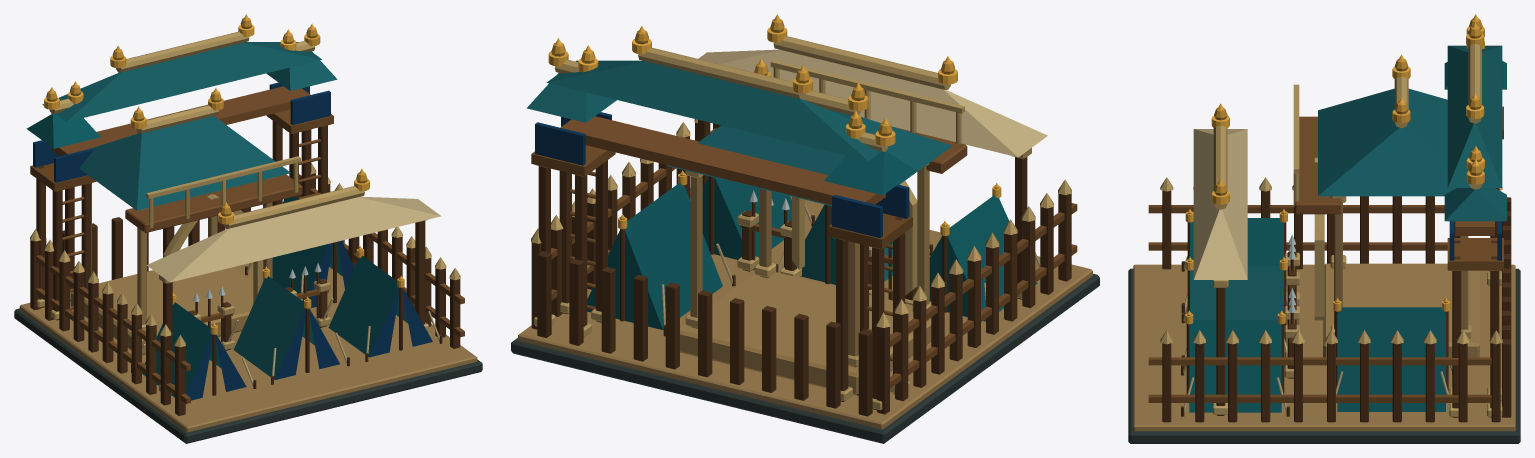
The picture shows the model from 3 angles, left to right: view 1: azimuth 30°, elevation 25°; view 2: azimuth 150°, elevation 25°; view 3: azimuth 270°, elevation 25°; orthographic projection. The views are drawn at different scales.
Parts seen in each view (by area): view 1: camp_level14_structure, camp_level14_metal; view 2: camp_level14_structure, camp_level14_metal; view 3: camp_level14_structure, camp_level14_metal.
Boxes of the visible parts, left/top/right/bottom form: camp_level14_structure: left=14, top=18, right=482, bottom=443; camp_level14_metal: left=44, top=14, right=404, bottom=334; camp_level14_structure: left=511, top=19, right=1099, bottom=443; camp_level14_metal: left=548, top=14, right=1001, bottom=235; camp_level14_structure: left=1128, top=18, right=1520, bottom=443; camp_level14_metal: left=1185, top=14, right=1484, bottom=324.
Bounding box in the file's own units: 5.6 × 4.8 × 5.6.
